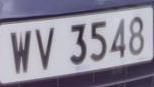3: (64, 18, 92, 72)
4: (108, 13, 128, 65)
5: (87, 16, 110, 69)
8: (126, 11, 146, 62)
V: (33, 23, 59, 75)
W: (7, 26, 35, 79)
